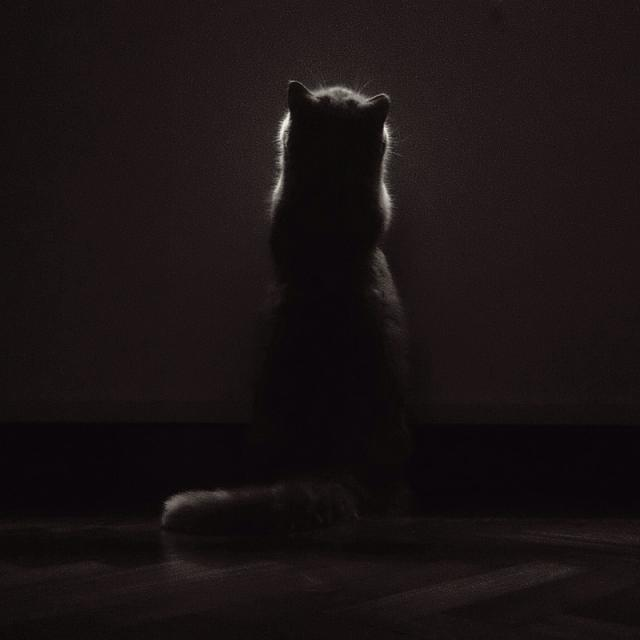Cat: (248, 52, 512, 623)
